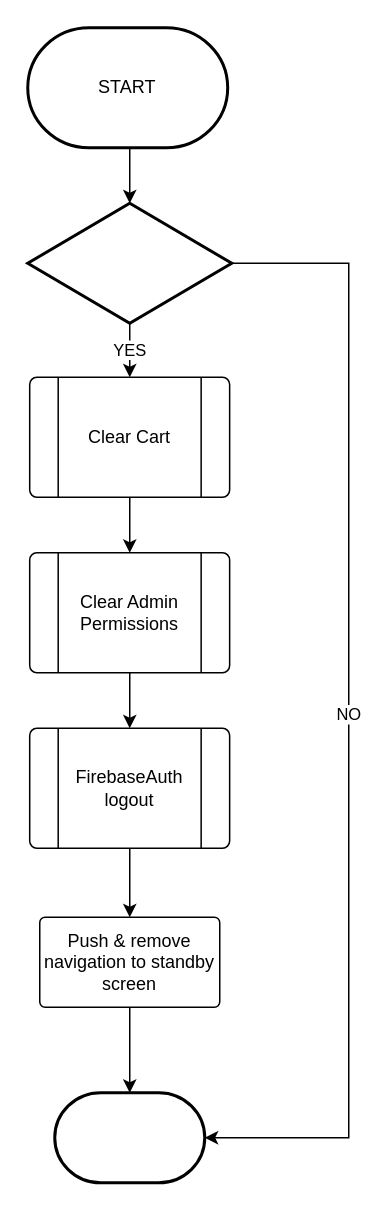
Image size: 387x1209. Some labels were removed from this diagram. Each missing label, with the centre of its shape:
"END" goes at (129,1137).
"Is a user logged in?" goes at (129,262).
